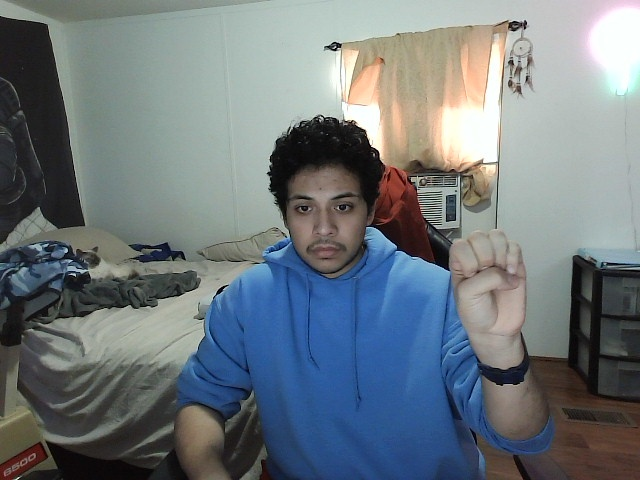E: (442, 226, 533, 338)
